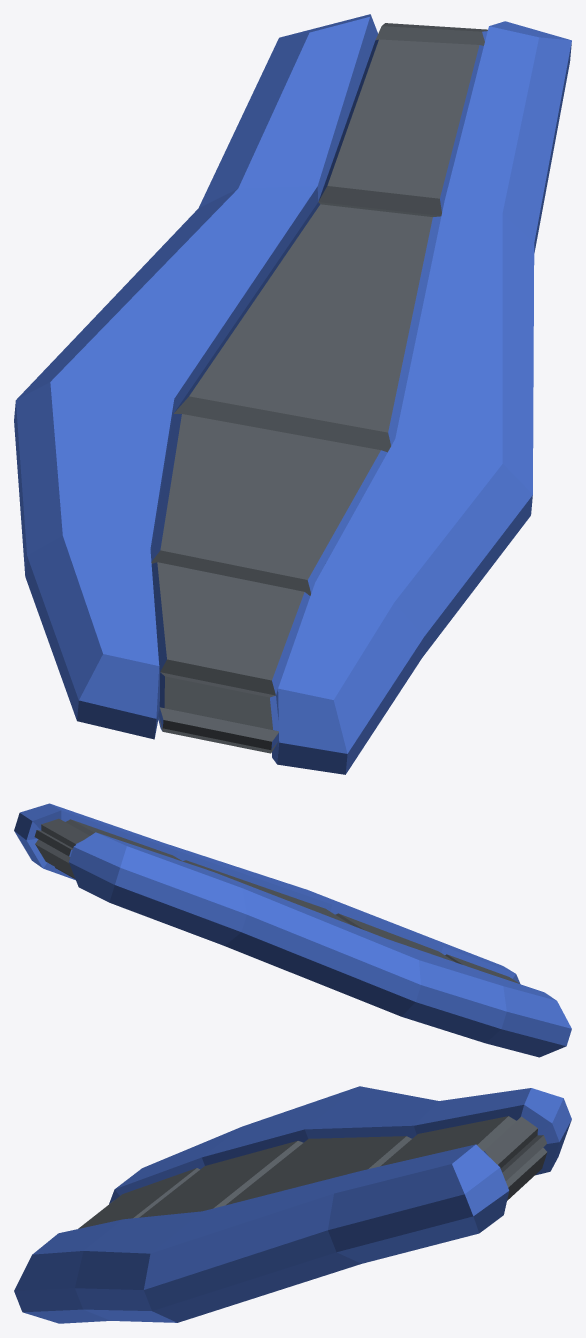
The model's file is Fighter_03_Left_Fin_Blue.fbx.
3 renders of one model, top to bottom at view 1: azimuth 30°, elevation 25°; view 2: azimuth 150°, elevation 25°; view 3: azimuth 270°, elevation 25°, orthographic. The views are drawn at different scales.
Parts seen in each view (by area): view 1: Fighter_03_Left_Fin_Blue; view 2: Fighter_03_Left_Fin_Blue; view 3: Fighter_03_Left_Fin_Blue.
Part boxes in pixels (x1=…): Fighter_03_Left_Fin_Blue: x1=14, y1=14, x2=571, y2=774; Fighter_03_Left_Fin_Blue: x1=14, y1=803, x2=571, y2=1057; Fighter_03_Left_Fin_Blue: x1=14, y1=1086, x2=571, y2=1323.
Bounding box in the file's own units: 393 × 239 × 347.
Materials: 1 (1 with a texture image).
